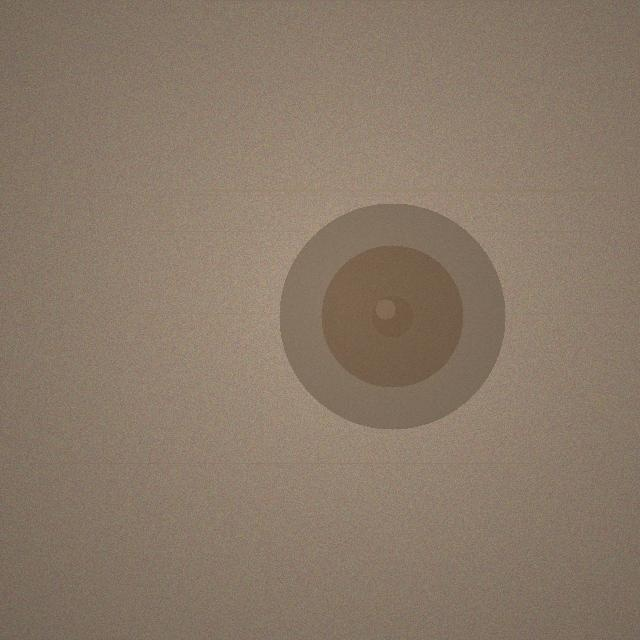good: (279, 203, 505, 429)
